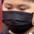with_mask: (2, 1, 34, 34)
